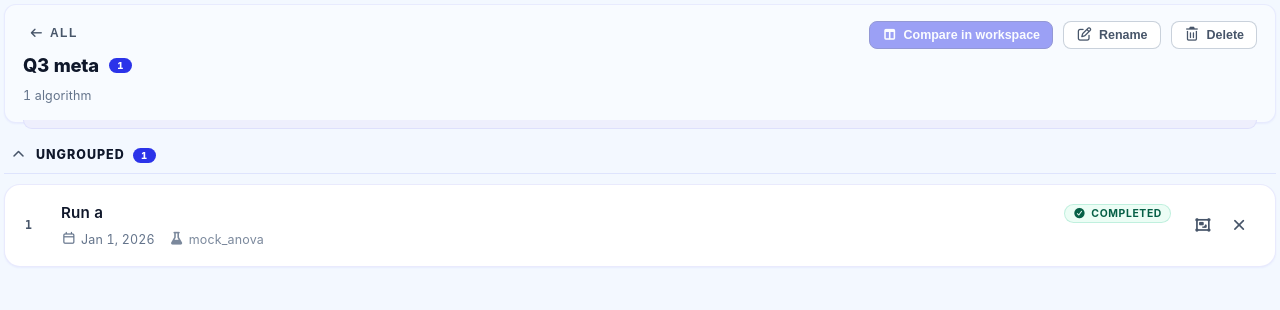
Test: ExperimentFolderComponent › holds the canvas, and the confirmation, when the delete never reached the server
Click the button with class "folder-form-action" showing "Delete".
click(1214, 35)  # box [1171, 21, 1257, 49]
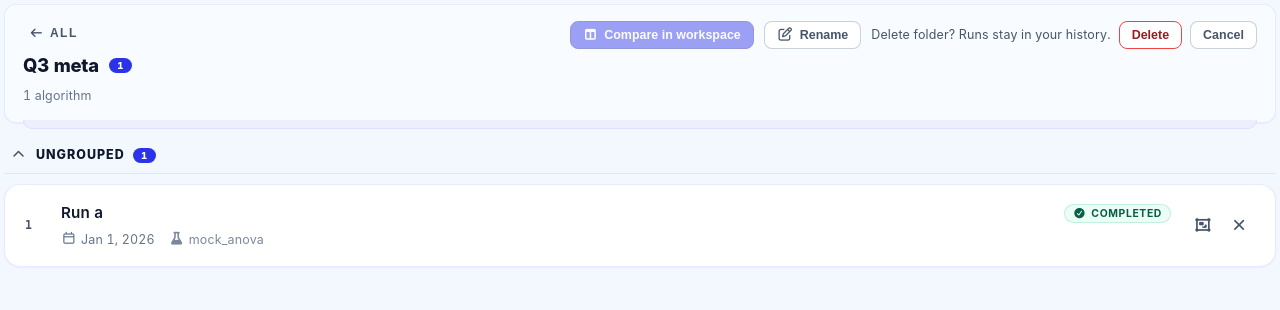
Click the button with class "danger".
click(1150, 35)  # box [1119, 21, 1182, 49]
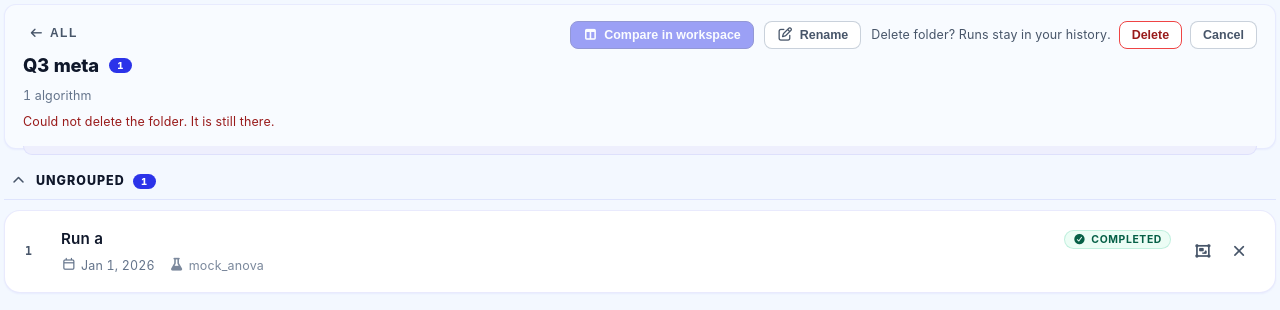
Check: the element with class "folder-delete-confirm" is shown, box [871, 21, 1257, 49]
Check: the message with class "folder-form-error" shows "Could not delete the folder", box [23, 114, 274, 129]
